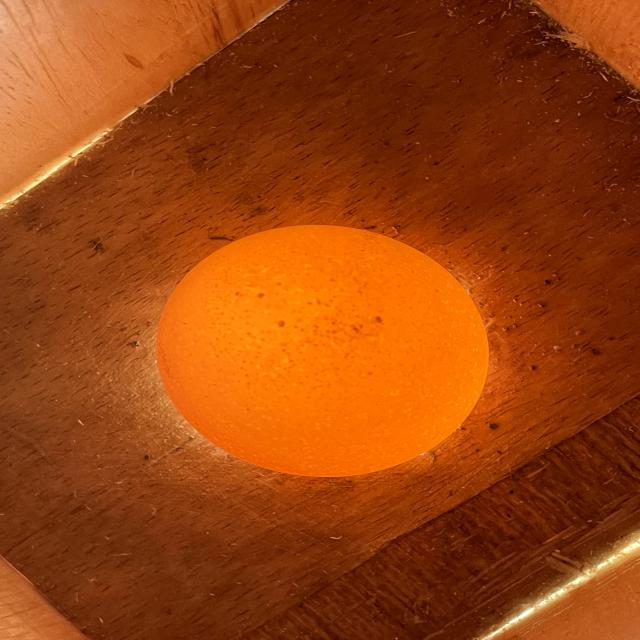infertile: (157, 225, 488, 476)
